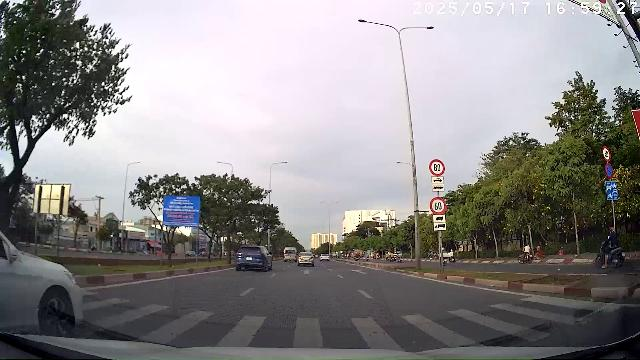127-toc-do-toi-da-60: (429, 196, 447, 214), (602, 146, 611, 161)
127-toc-do-toi-da-80: (428, 159, 445, 176)
131a-cam-do-xe: (604, 163, 614, 179)
